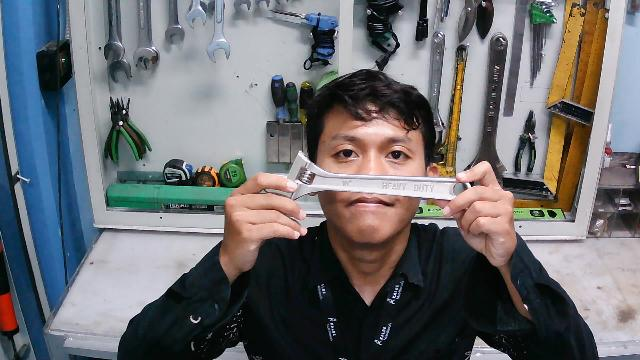kunci_inggris: (261, 152, 472, 208)
